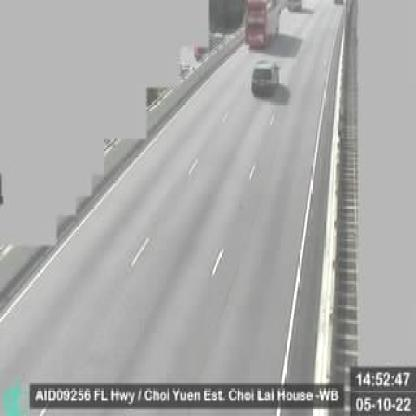Bus: (245, 0, 278, 49)
Car: (251, 59, 278, 97)
